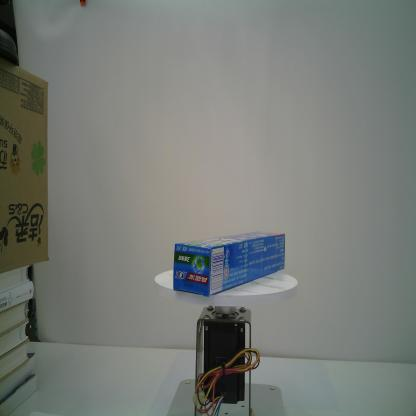Personal Hygiene: (173, 230, 284, 296)
